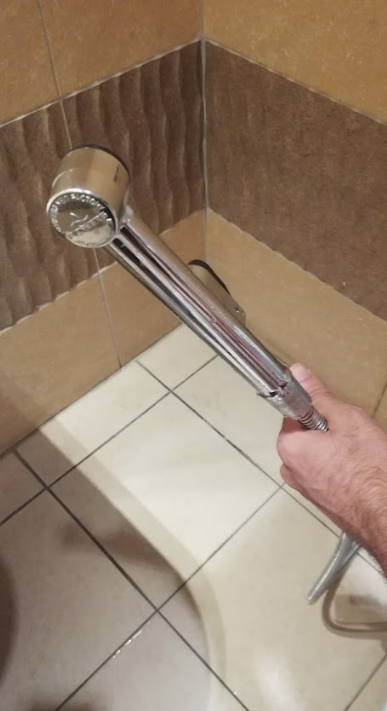Toilet: (17, 115, 361, 607)
